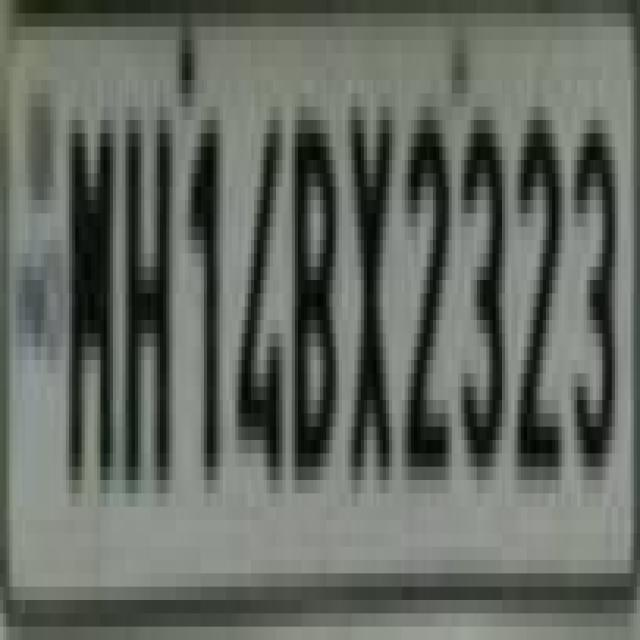license_plate: (28, 27, 640, 600)
